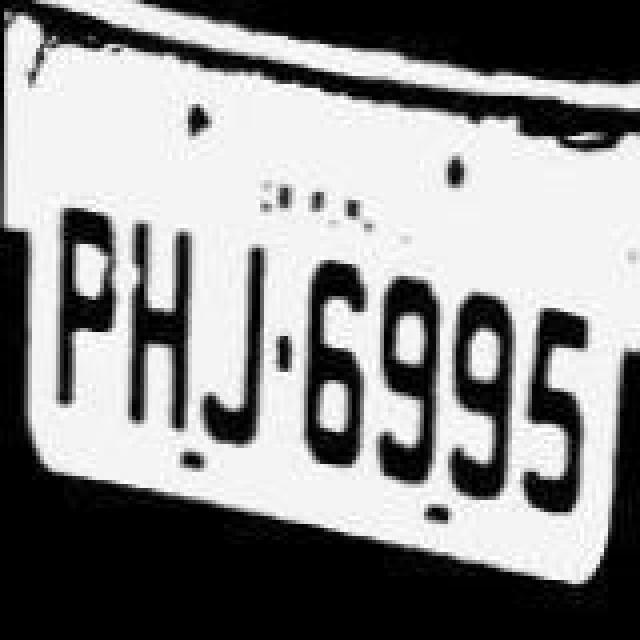5: (518, 304, 602, 520)
6: (290, 258, 370, 462)
9: (368, 274, 448, 490), (438, 290, 514, 498)
H: (116, 224, 200, 436)
J: (190, 244, 278, 448)
P: (50, 206, 122, 410)
